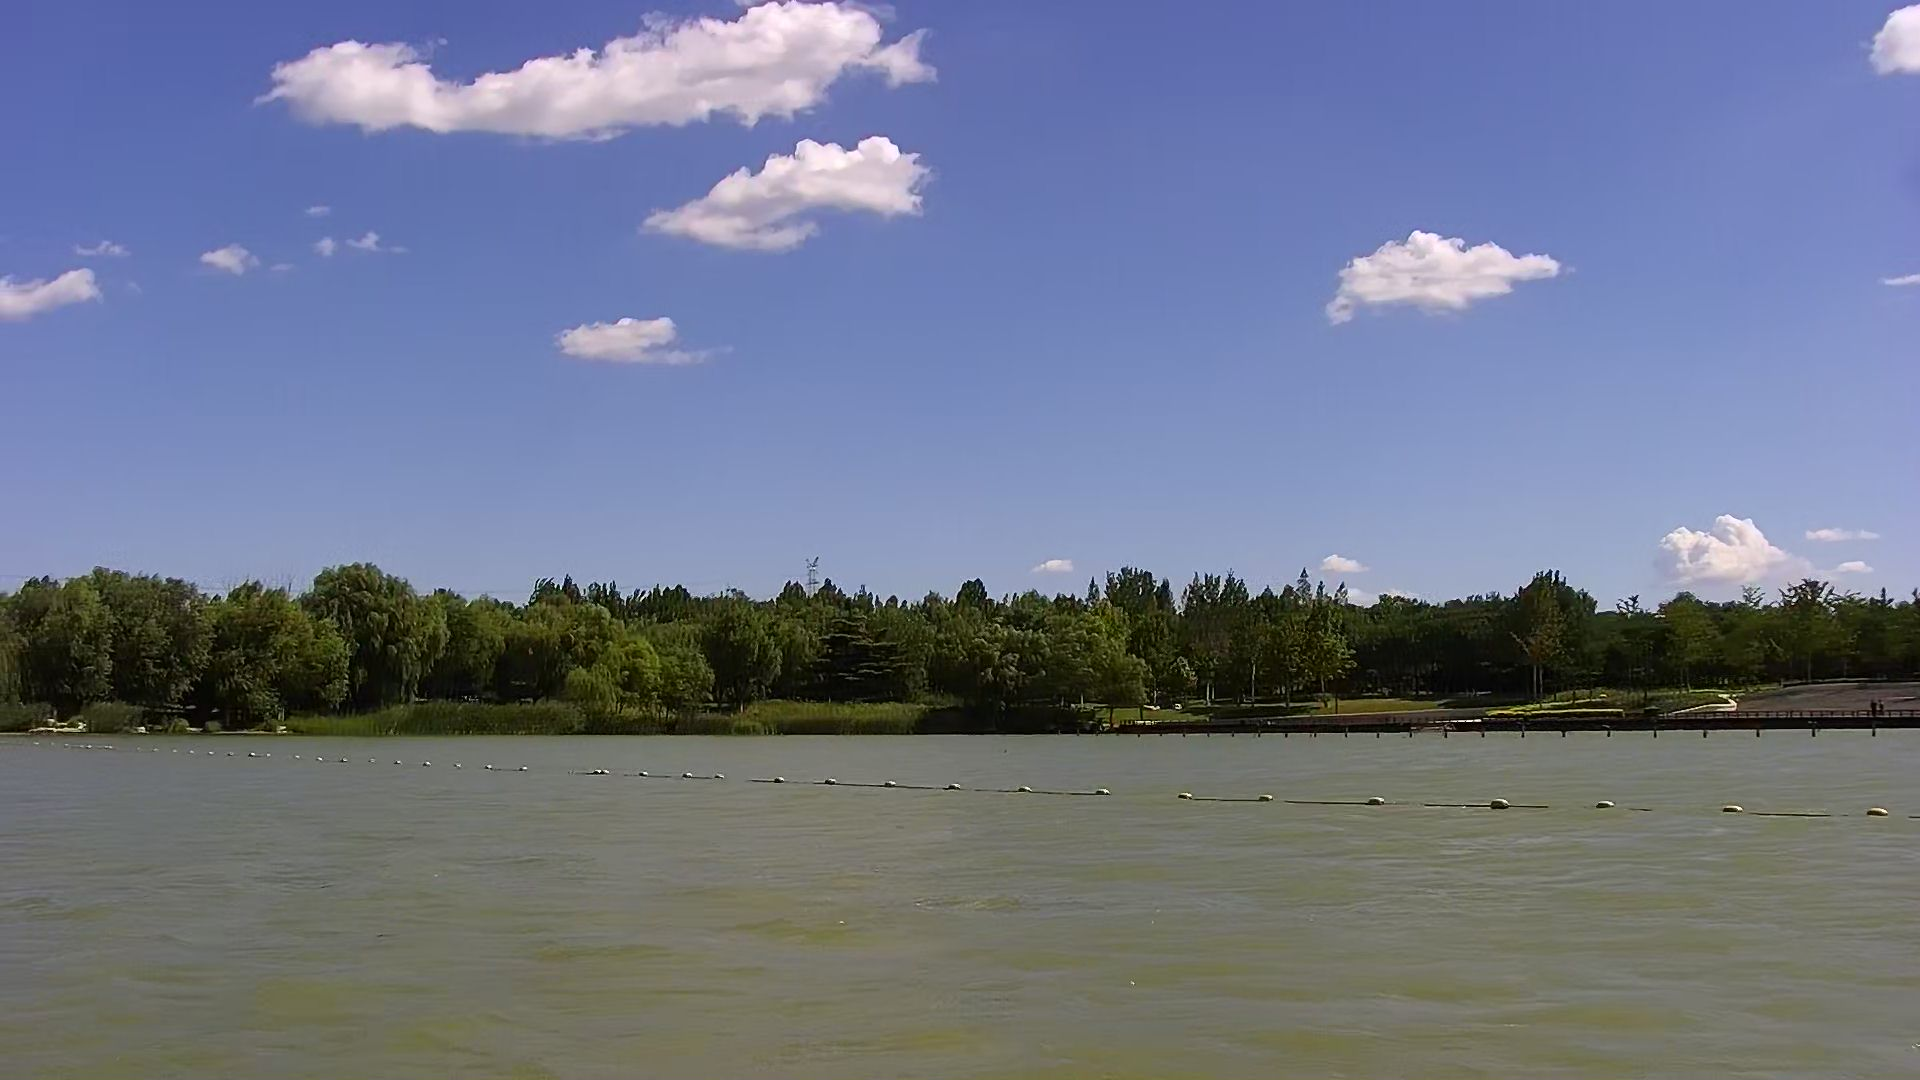ball: (1481, 781, 1524, 829), (1853, 790, 1899, 832), (1361, 782, 1406, 822), (1253, 786, 1303, 814), (1716, 794, 1751, 828), (1589, 786, 1627, 818)
